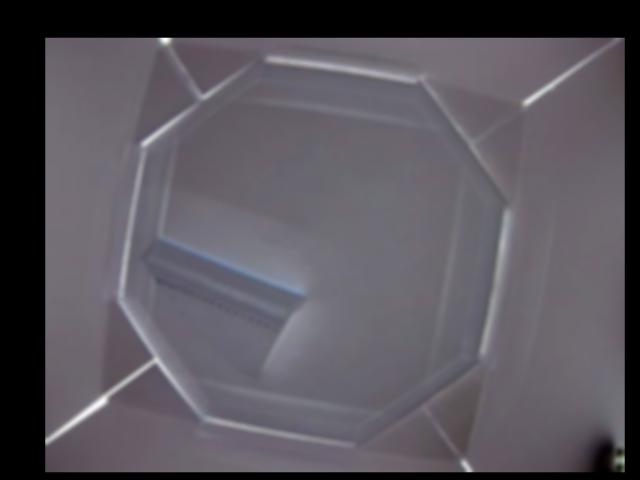China: (140, 237, 309, 373)
